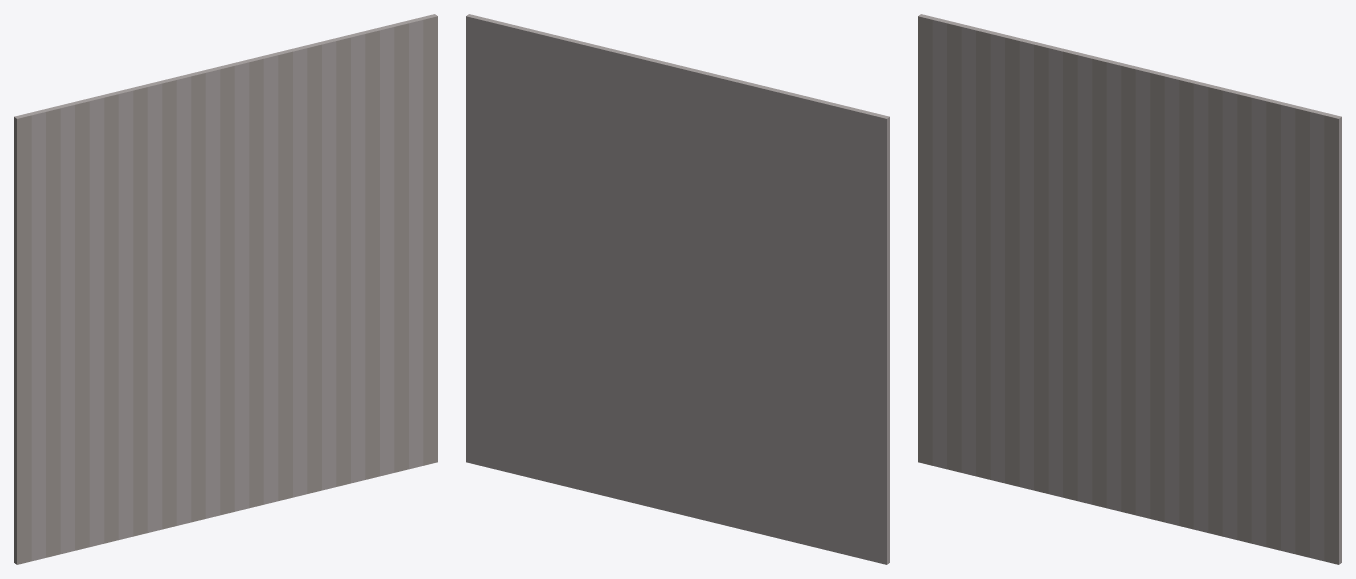
Rendered from SM_WallStripesBackDarkLightGrey_01.fbx.
3 renders of one model, left to right at view 1: azimuth 30°, elevation 25°; view 2: azimuth 150°, elevation 25°; view 3: azimuth 330°, elevation 25°, orthographic.
Parts seen in each view (by area): view 1: SM_WallStripesBackDarkLightGrey_01; view 2: SM_WallStripesBackDarkLightGrey_01; view 3: SM_WallStripesBackDarkLightGrey_01.
Part boxes in pixels (x1=…): SM_WallStripesBackDarkLightGrey_01: x1=14, y1=14, x2=437, y2=564; SM_WallStripesBackDarkLightGrey_01: x1=466, y1=14, x2=889, y2=564; SM_WallStripesBackDarkLightGrey_01: x1=918, y1=14, x2=1341, y2=564.
Bounding box in the file's own units: 395 × 400 × 5.
